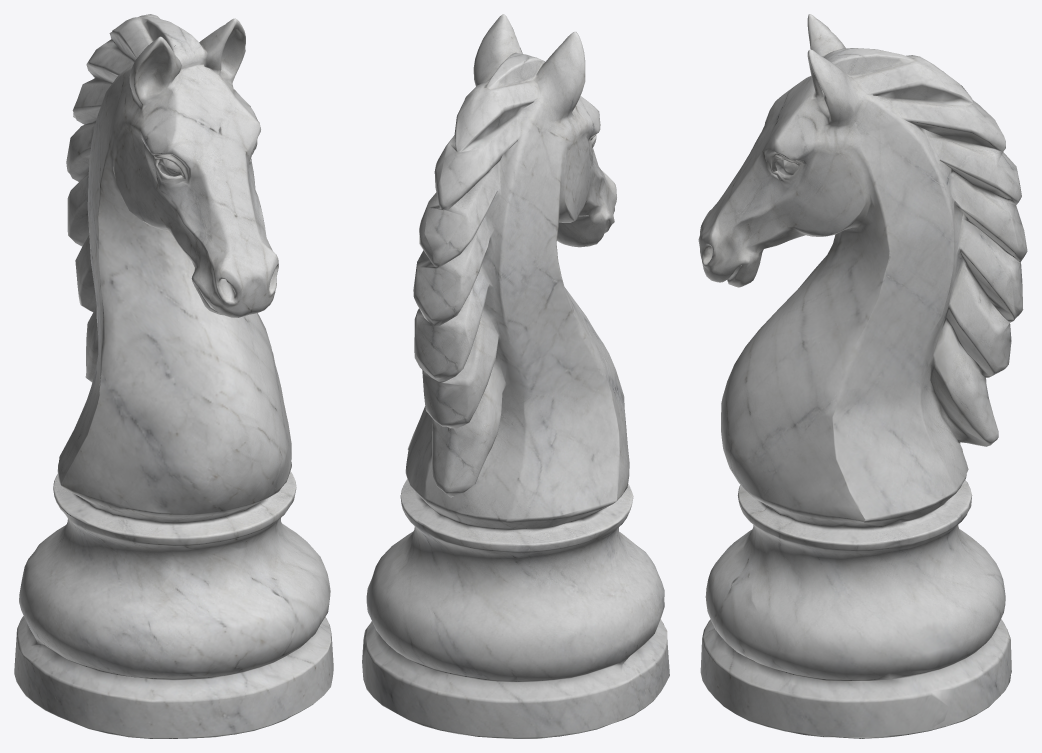
The model's file is chess-knight.glb.
3 views of the same model, side by side, from view 1: azimuth 30°, elevation 25°; view 2: azimuth 150°, elevation 25°; view 3: azimuth 270°, elevation 25° (orthographic). The views are drawn at different scales.
Size of the model in its own units: 0.4126 by 0.9507 by 0.4414.
1 material, 1 textured.
